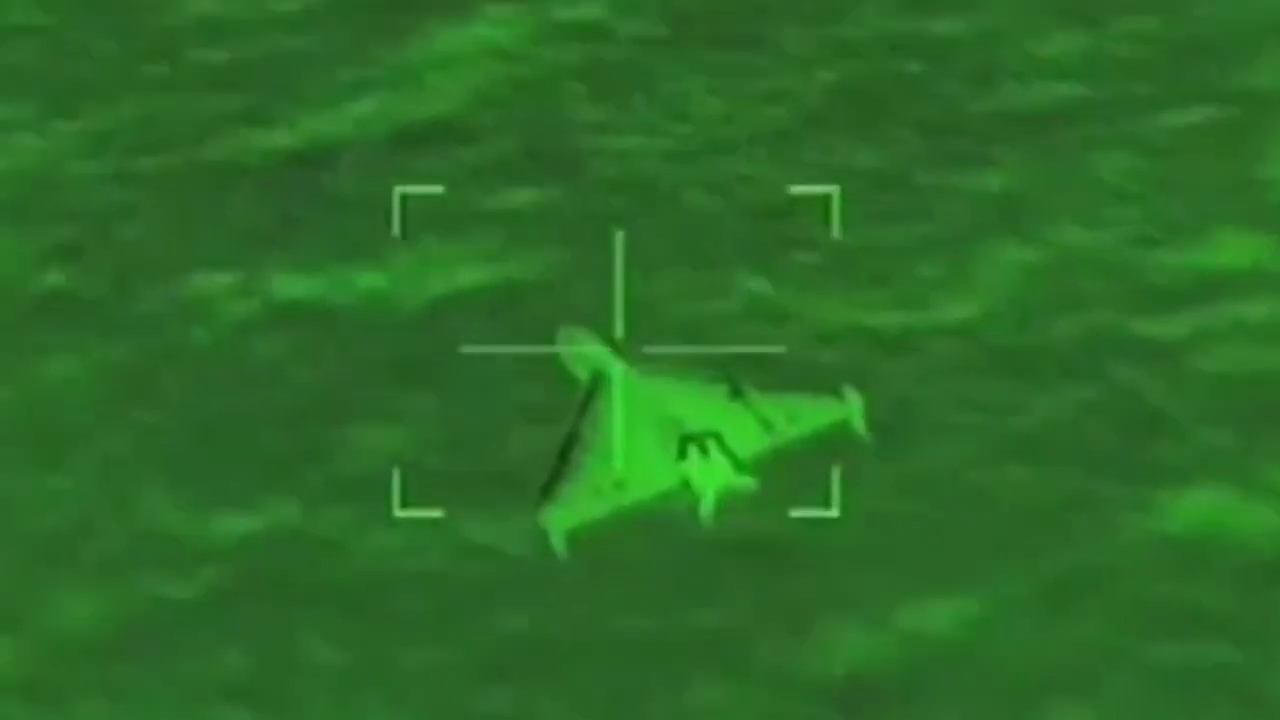shahed: (540, 326, 877, 564)
